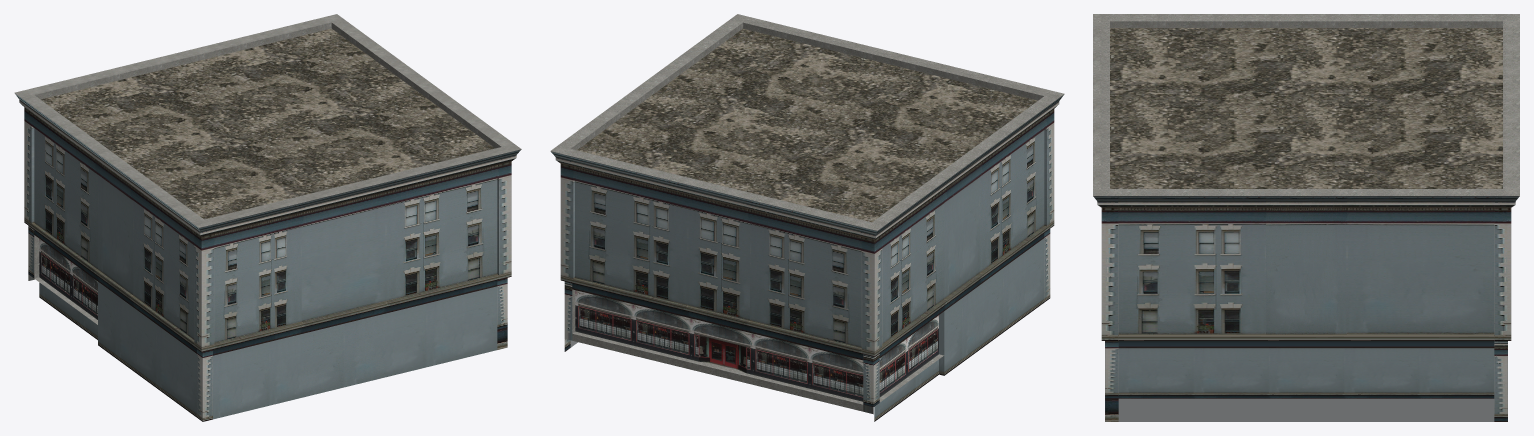
The model's file is scum_sfs01.obj.
3 renders of one model, left to right at view 1: azimuth 30°, elevation 25°; view 2: azimuth 150°, elevation 25°; view 3: azimuth 270°, elevation 25°, orthographic. The views are drawn at different scales.
Visible parts, largest first — view 1: scum_SFS01; view 2: scum_SFS01; view 3: scum_SFS01.
Boxes of the visible parts, x1,y1,x2,y2 form: scum_SFS01: [14, 14, 521, 421]; scum_SFS01: [550, 14, 1064, 421]; scum_SFS01: [1093, 14, 1519, 421].
Size of the model in its own units: 38.13 by 22.57 by 37.8.
7 materials, 7 textured.
